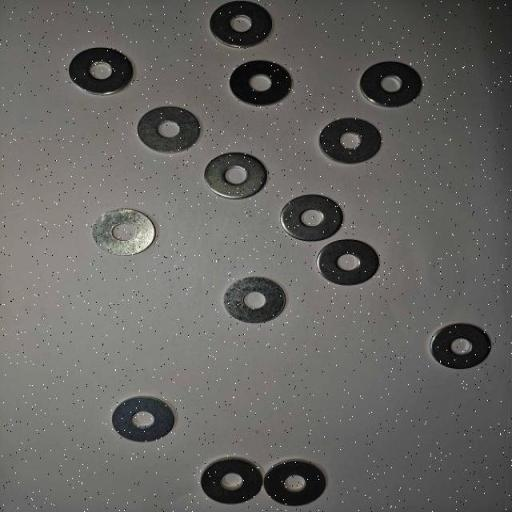washer: (69, 48, 134, 96), (92, 208, 156, 256), (200, 456, 263, 504), (210, 0, 272, 48), (317, 239, 380, 286), (281, 194, 344, 241), (204, 152, 268, 198), (138, 106, 202, 152), (318, 118, 382, 164), (430, 322, 491, 370), (224, 276, 286, 323), (360, 61, 422, 108), (112, 396, 175, 442), (264, 460, 326, 506), (230, 60, 292, 106)
